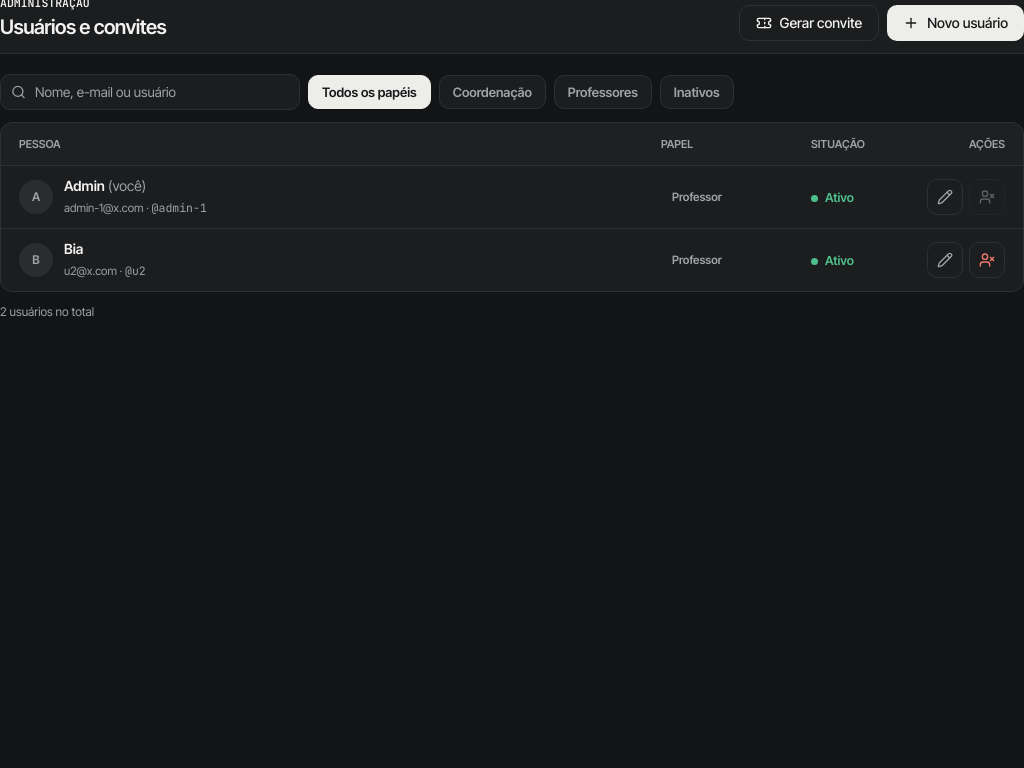
Test: UsersPage — redefinir senha (B-S5) › senha curta mostra o erro e não envia nada
Click the button named "Editar Bia" at (945, 260), box left=927, top=242, right=963, bottom=278
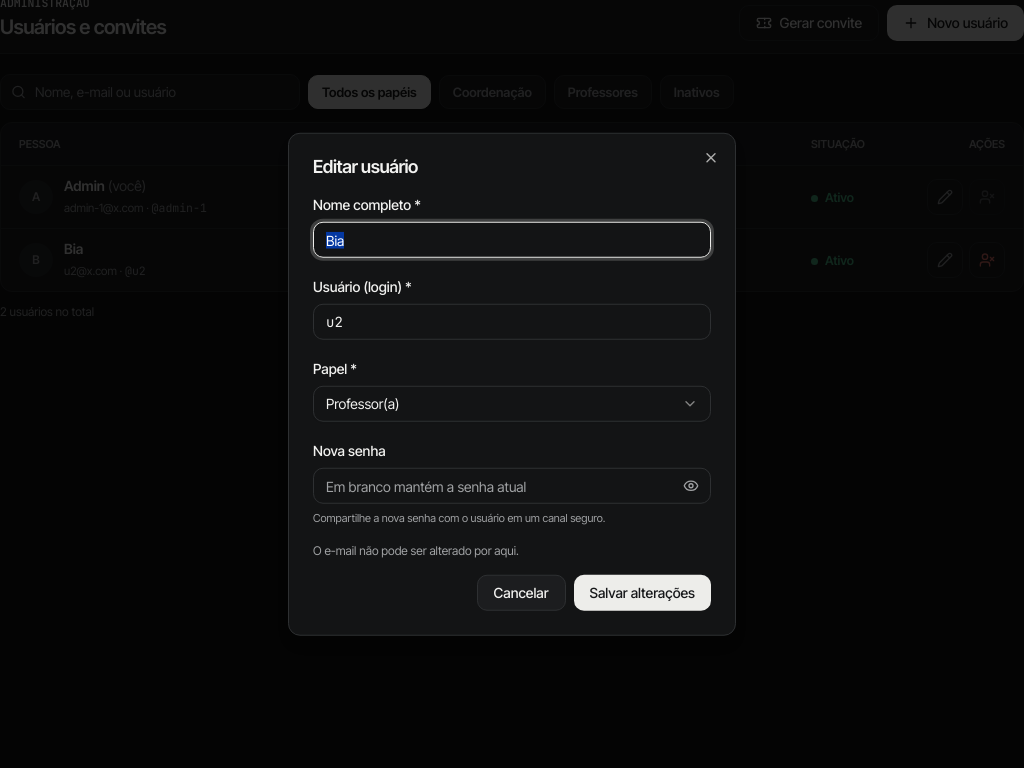
Type "curta" into the password field labelled "Nova senha" at (512, 486), box left=313, top=468, right=711, bottom=504
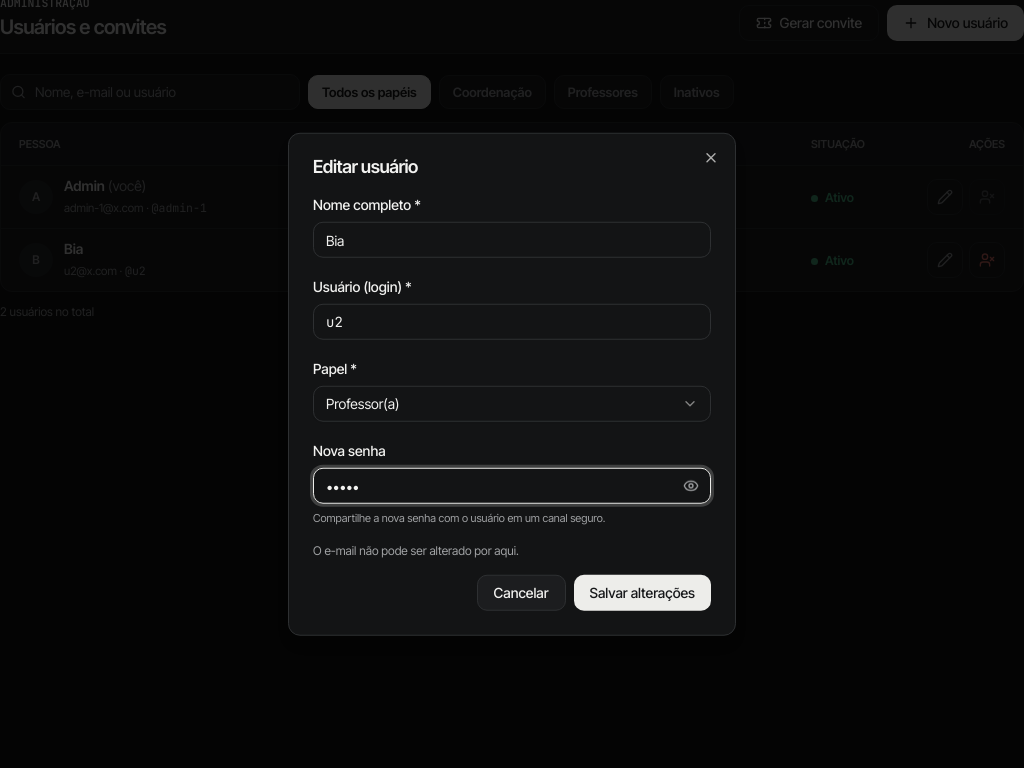
Click the button "Salvar alterações" at (642, 592), box left=574, top=574, right=711, bottom=610
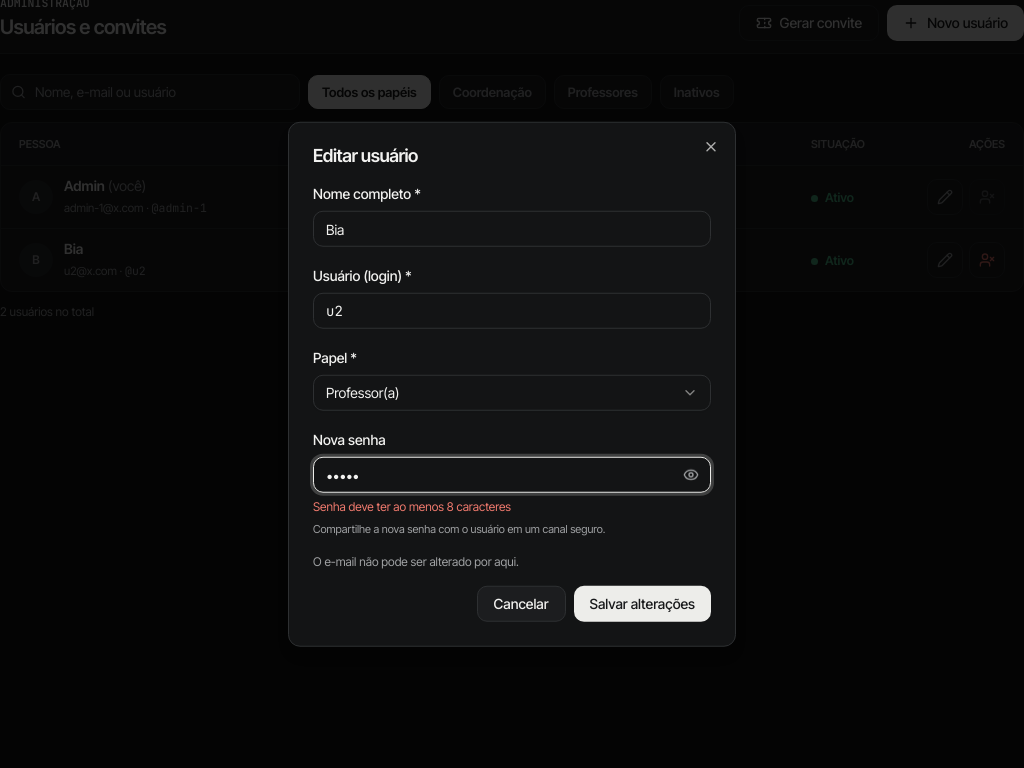
Expected: the text "Senha deve ter ao menos 8 caracteres" is shown, left=313, top=499, right=511, bottom=514
